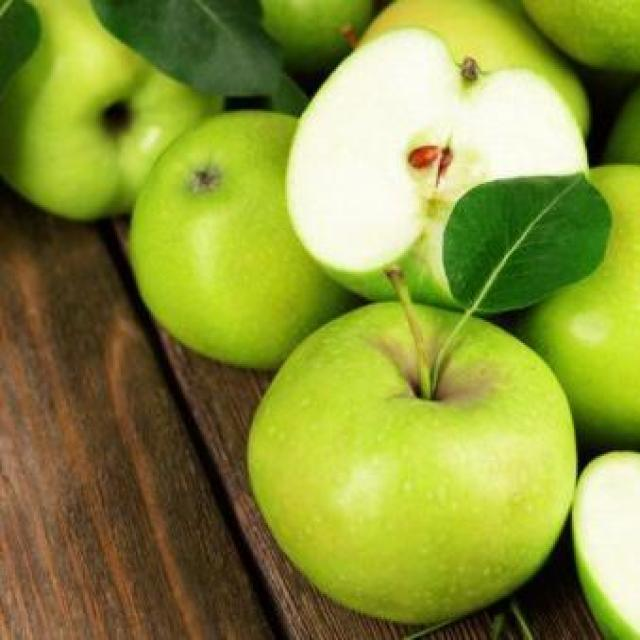Green Apple: (246, 288, 578, 626), (604, 75, 640, 171)
